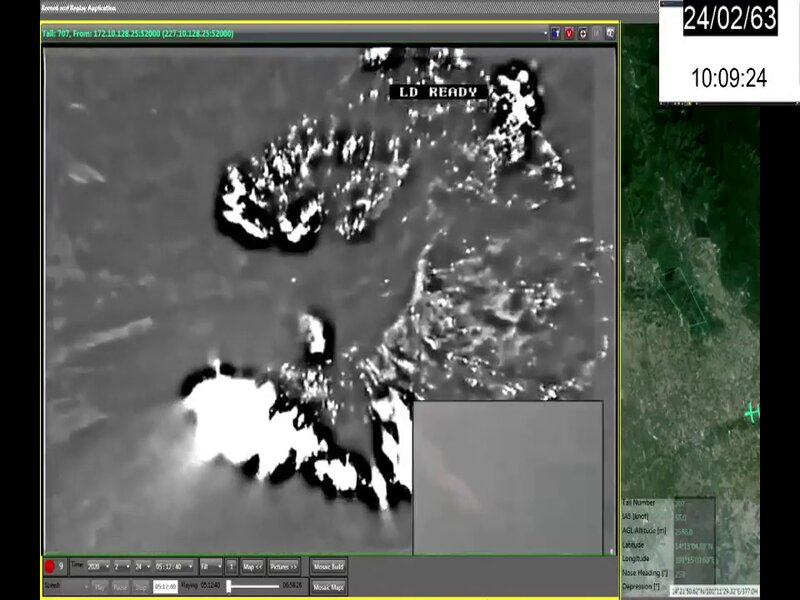Fire: (174, 48, 411, 514)
